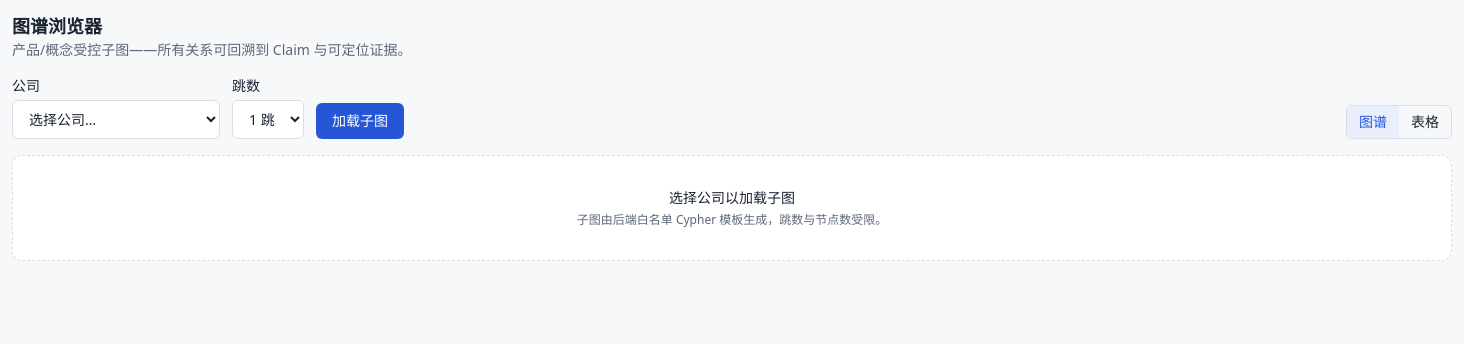
图谱浏览器（issue #32 关闭条件） › GWT：图后端不可用 → DEGRADED 显示 + 原因 + PG 事实提示
This screenshot has width=1464, height=344.
等公司选项加载（companies 查询异步）
Select "中心公司" in the dropdown named "选择公司" at (116, 120), box [12,100,220,139]
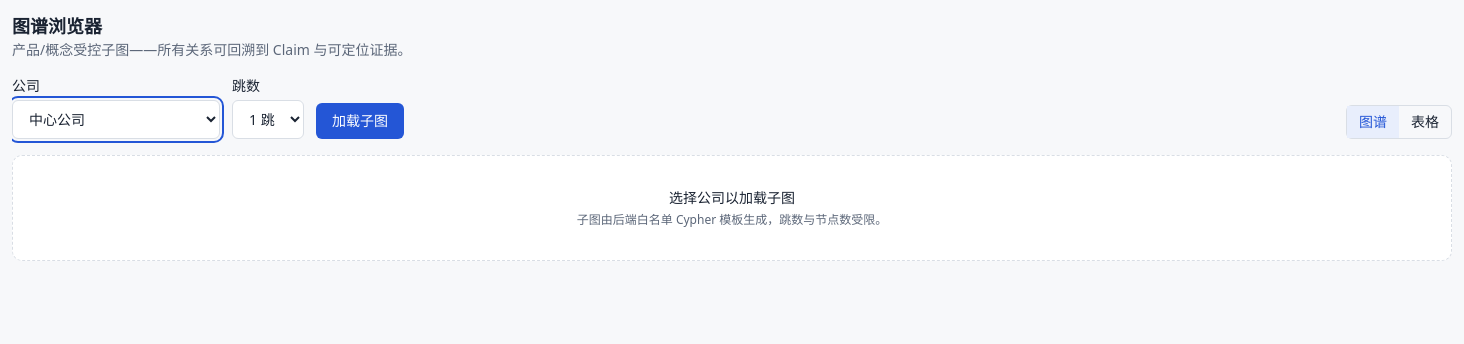
Click the button "加载子图" at (360, 121), box [316,103,404,139]
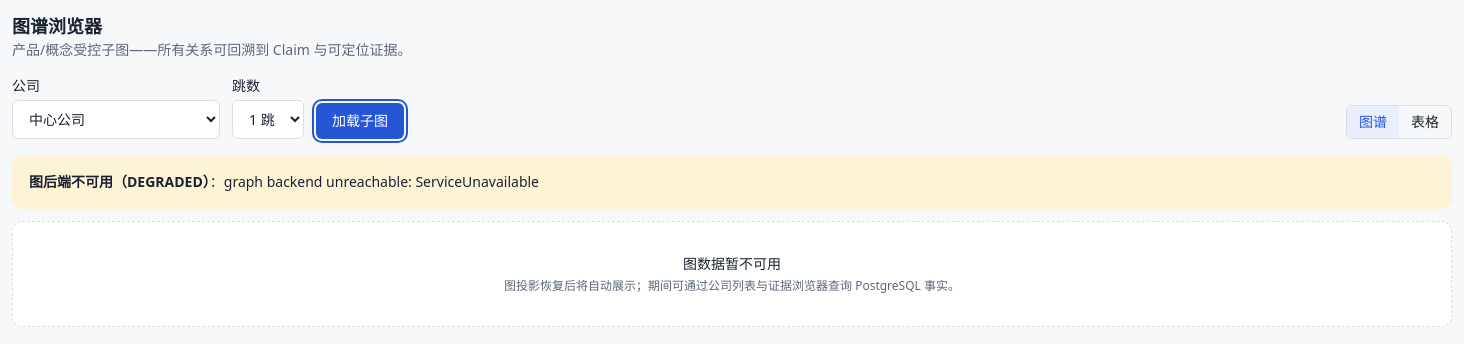
Expected: the text "图后端不可用（DEGRADED）" is shown, [29,172,210,191]
Expected: the text "ServiceUnavailable" is shown, [224,172,539,191]
Expected: the text "图投影恢复后将自动展示；期间可通过公司列表与证据浏览器查询 PostgreSQL 事实。" is shown, [504,277,960,294]
